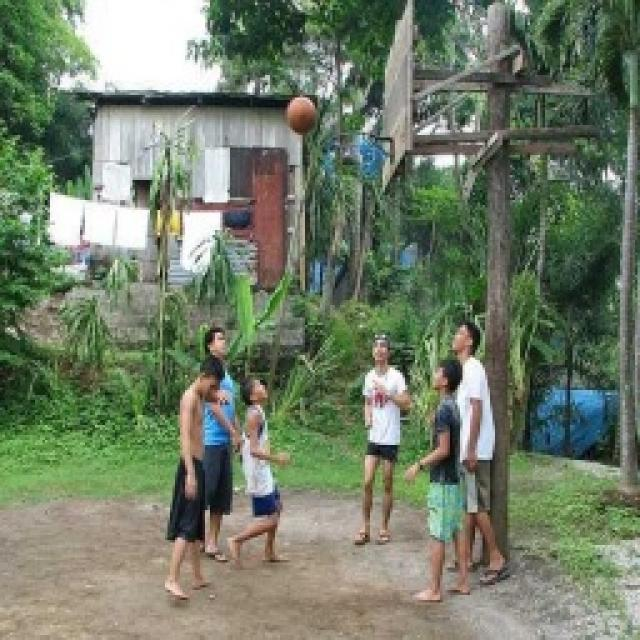rim: (284, 95, 322, 131)
